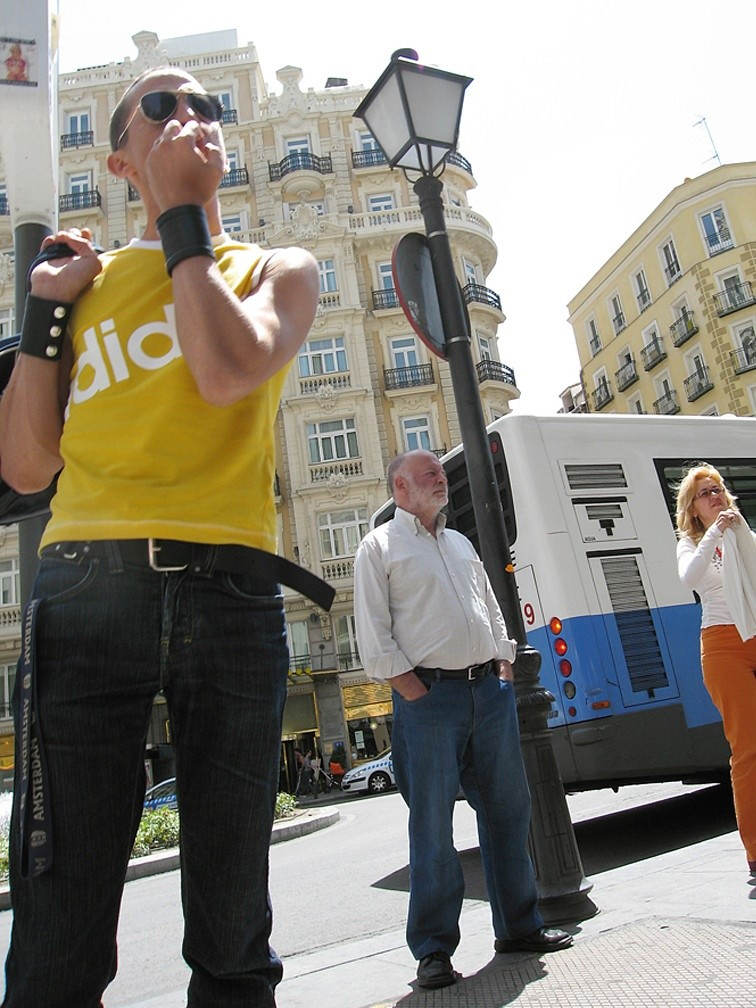face_no_mask: (387, 446, 452, 517), (680, 461, 731, 526)
